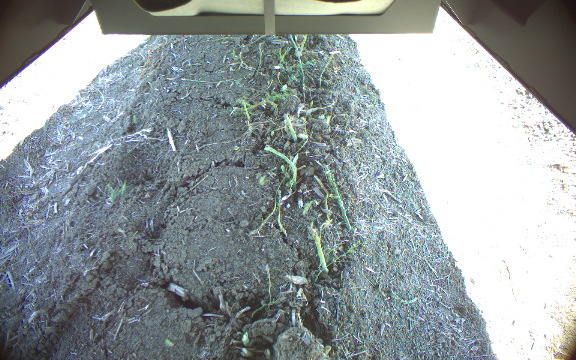aspa: (326, 171, 351, 231), (264, 144, 297, 183), (304, 227, 328, 272), (317, 54, 334, 87), (281, 113, 297, 142)
